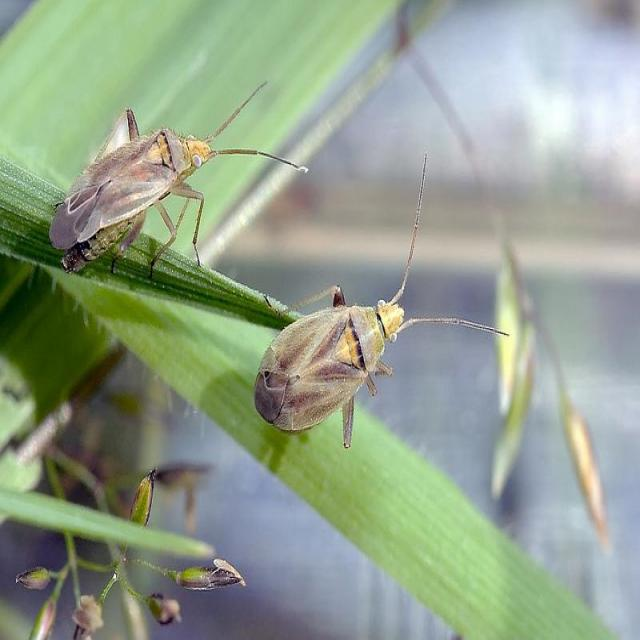Miridae-Adult-: (256, 153, 485, 442), (39, 57, 294, 278)
